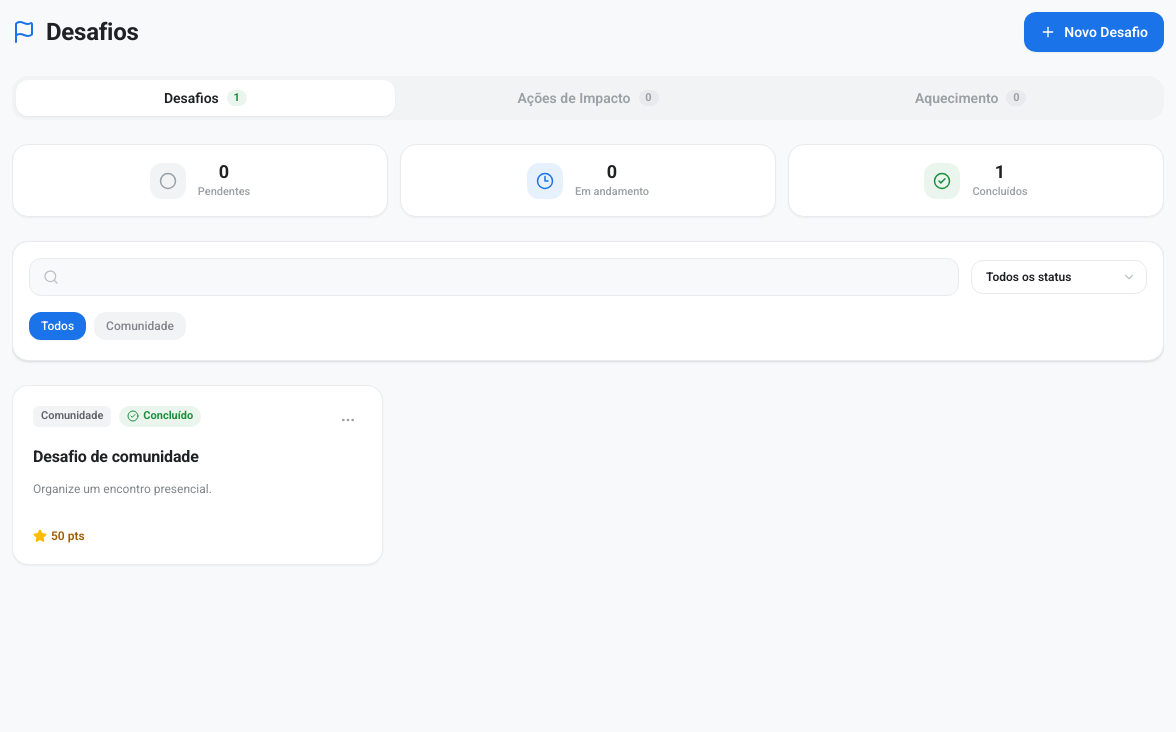
Test: ChallengesModule › hides a deleted item right away and lets the user undo it
Click the button named "Mais ações para": click(348, 420) [334,406,362,434]
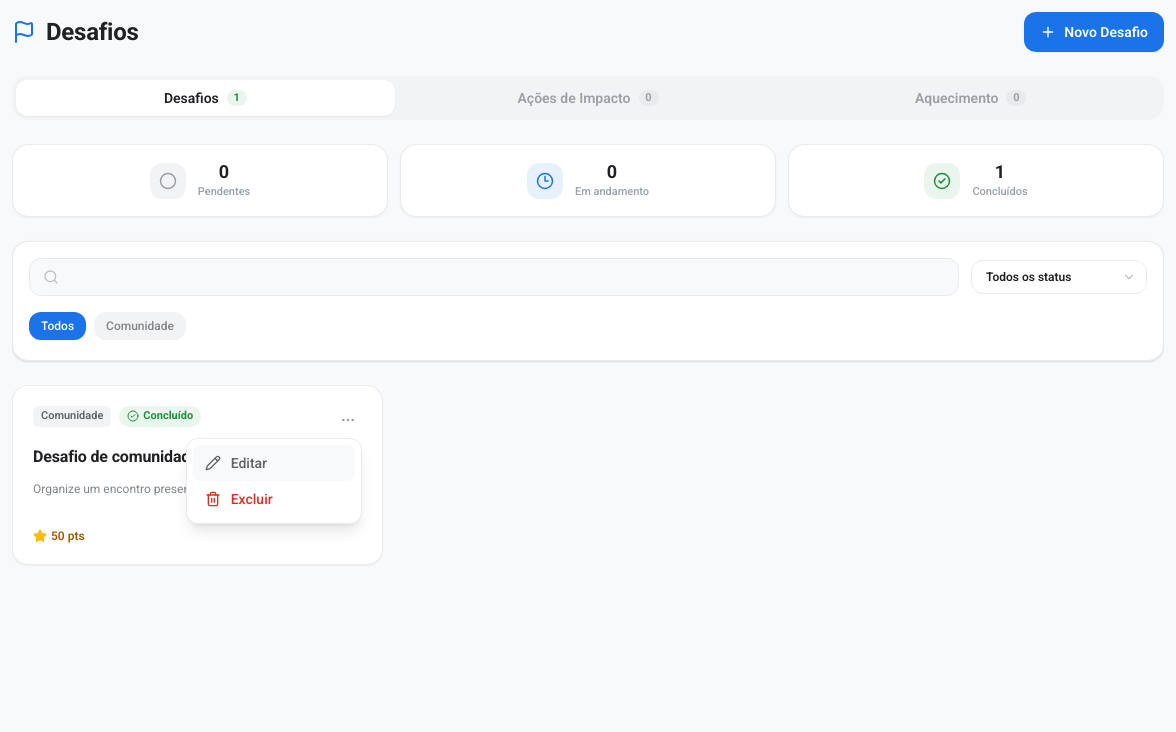
Click the menu item "Excluir": click(274, 499) [193,481,355,517]
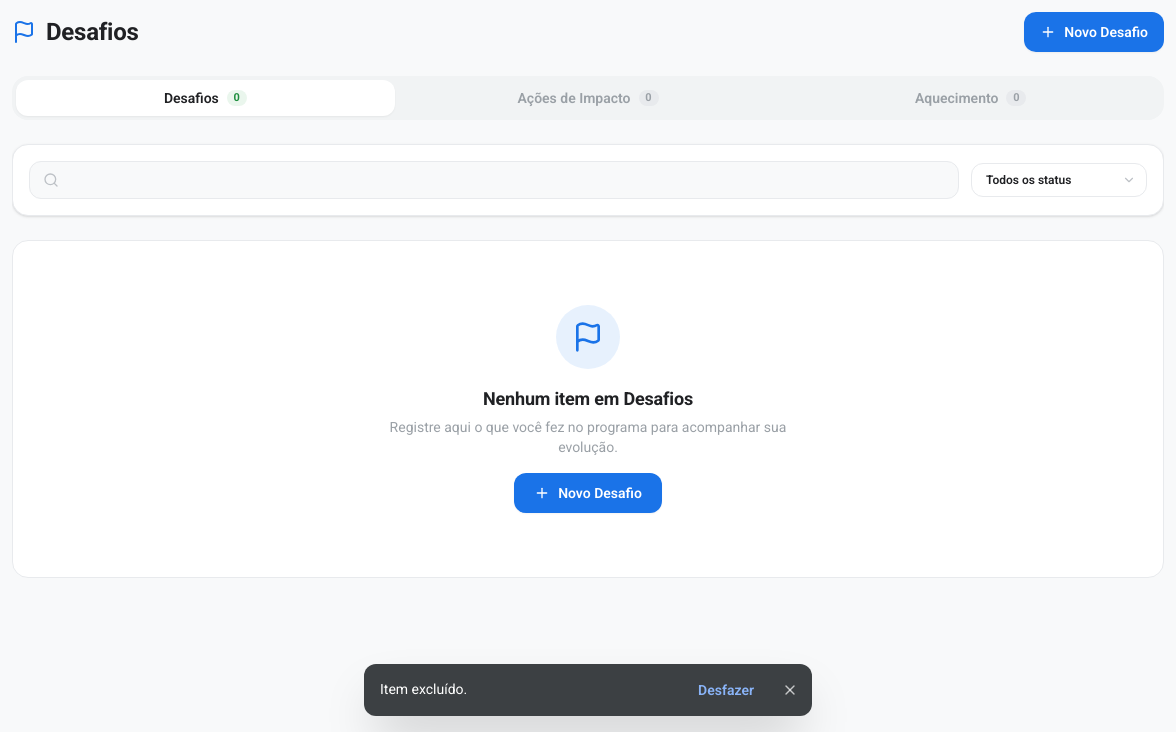
Click the button "Desfazer": click(726, 690) [688,674,764,706]
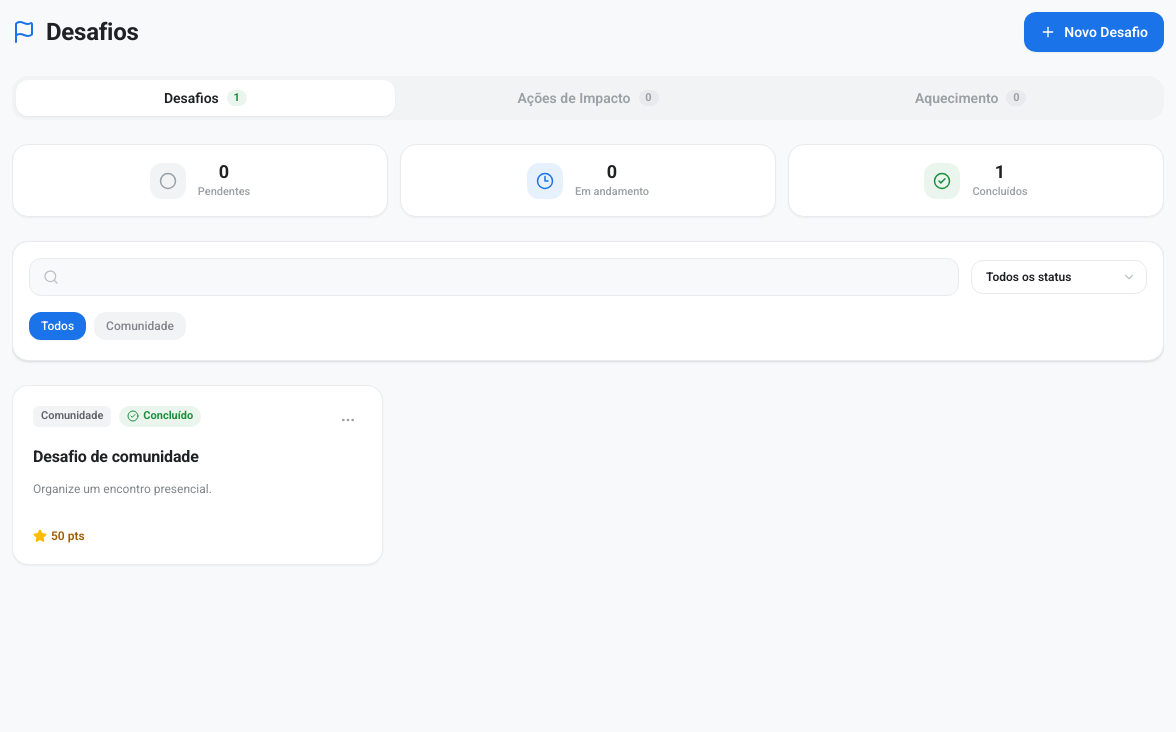
Now the button named "Mais ações para" is shown, box [334,406,362,434]
